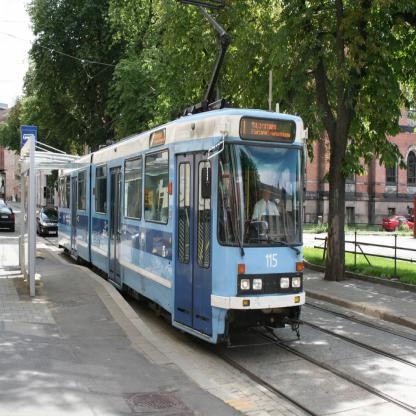Car: (36, 208, 58, 235), (0, 206, 15, 232)
